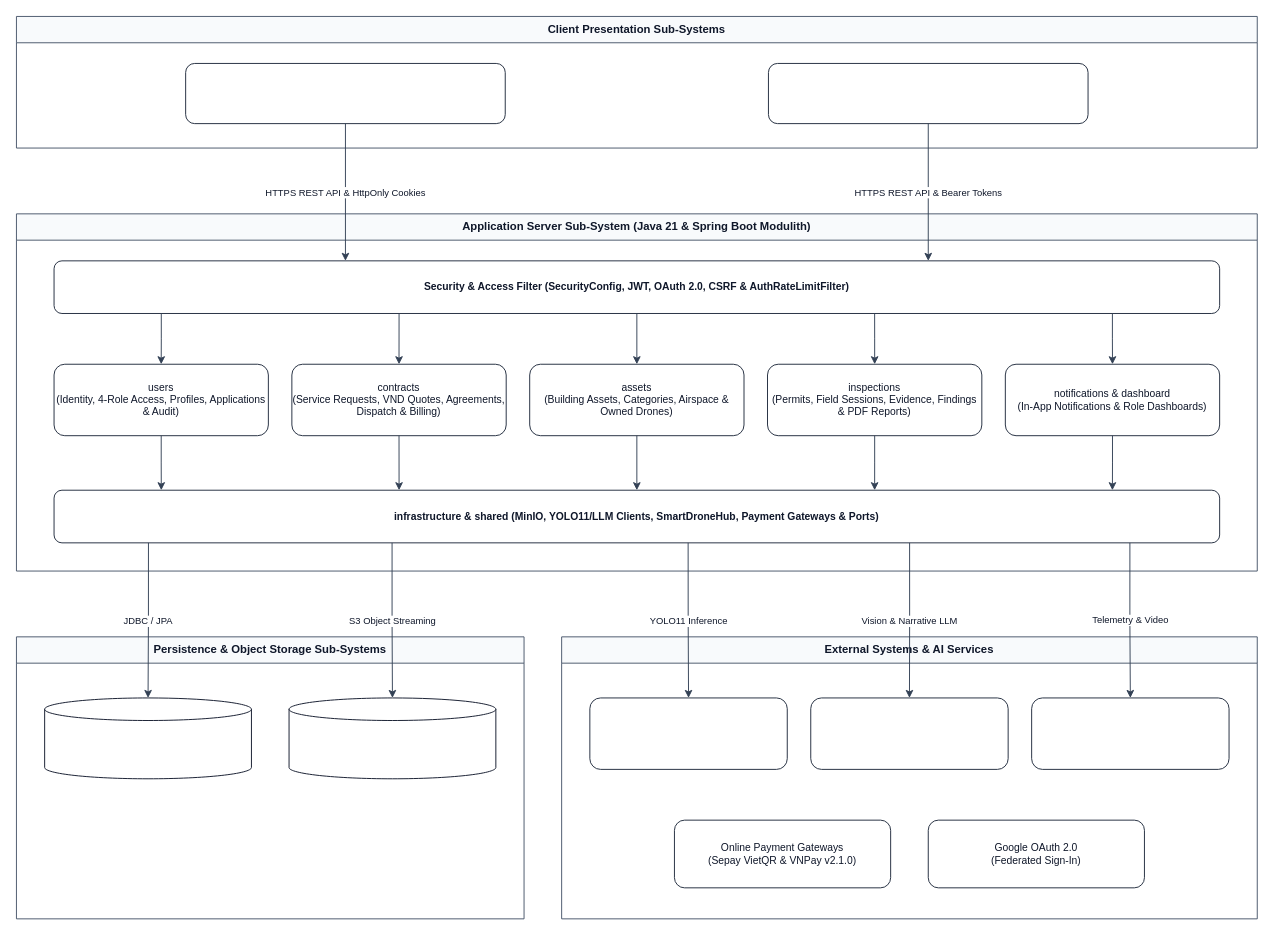
This 1274x935 diagram has some shape labels left out. Here are the shapes that lost their labels. From the top down, the centre of each, then its label:
(345,93): Web Portal Application (React 19, TypeScript, Material UI)
(928,93): Mobile Field Application (Flutter, Dart, Riverpod)
(147,738): PostgreSQL 17 (53 Application Tables, pgvector 384d)
(392,738): MinIO Object Storage (inspection-evidence Bucket)
(688,733): YOLO11 & FastEmbed (Python FastAPI & /v1/embeddings)
(909,733): AI Vision & Narrative Drafting (OpenAI-Compatible Gateway)
(1130,733): SmartDroneHub Service (Telemetry, Flight Trace & MP4)
